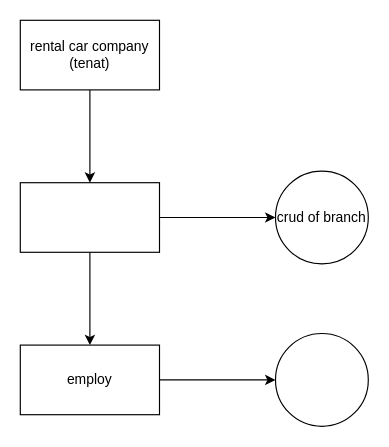
This 389x447 diagram has some shape labels left out. The centre of each missing label's shape, as x and y in pixels:
branched: the point at 89,217
user managment role and crud for employ: the point at 321,379
